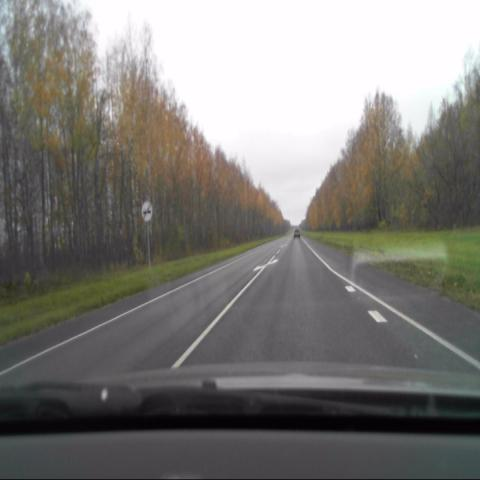3_21: (142, 200, 153, 222)
